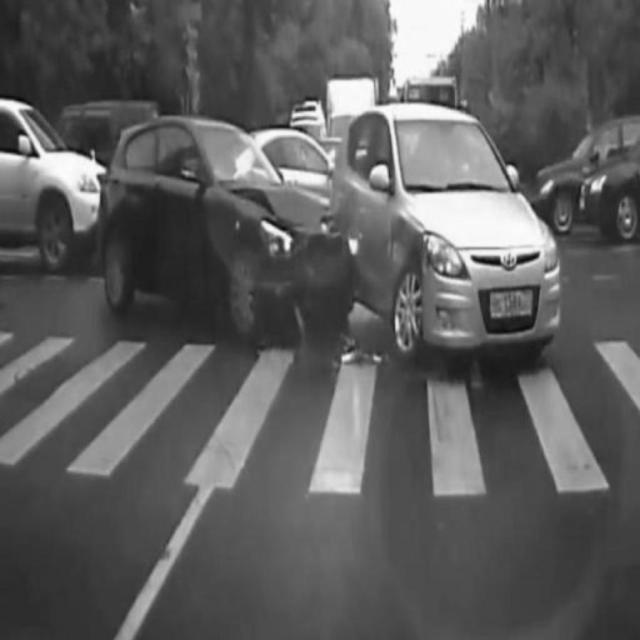accident: (107, 111, 559, 357)
vehicle: (0, 100, 98, 274), (535, 120, 618, 236), (576, 144, 640, 237)
